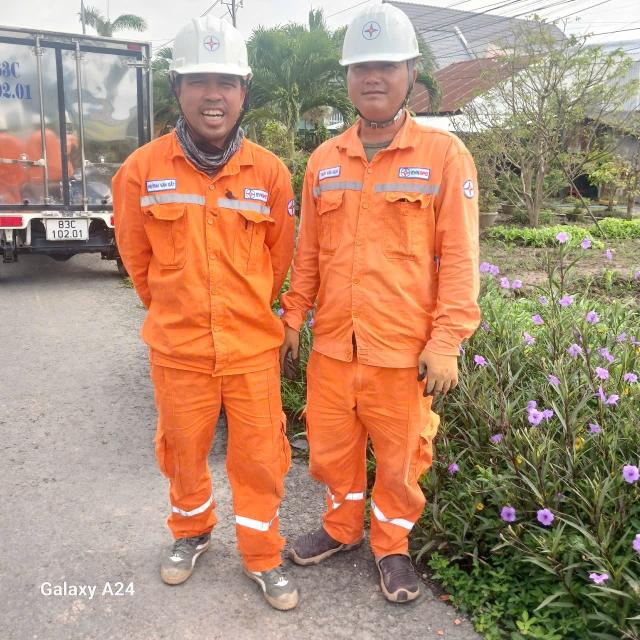gloves: (403, 328, 472, 402), (273, 320, 311, 380)
helmet: (161, 4, 269, 87), (338, 1, 424, 75)
shoes: (136, 509, 214, 596), (360, 532, 431, 611), (235, 546, 308, 608), (291, 507, 364, 568)
